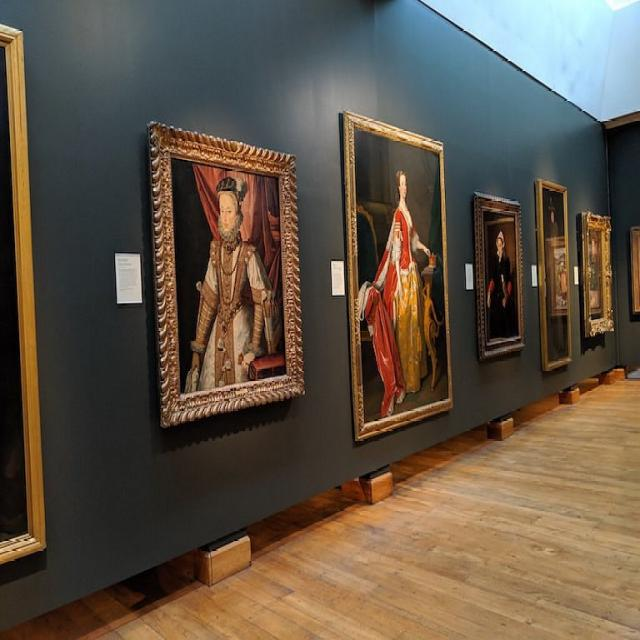Tablo: (354, 124, 448, 425), (169, 156, 287, 394), (541, 186, 569, 364), (483, 209, 520, 343), (588, 226, 605, 322)
